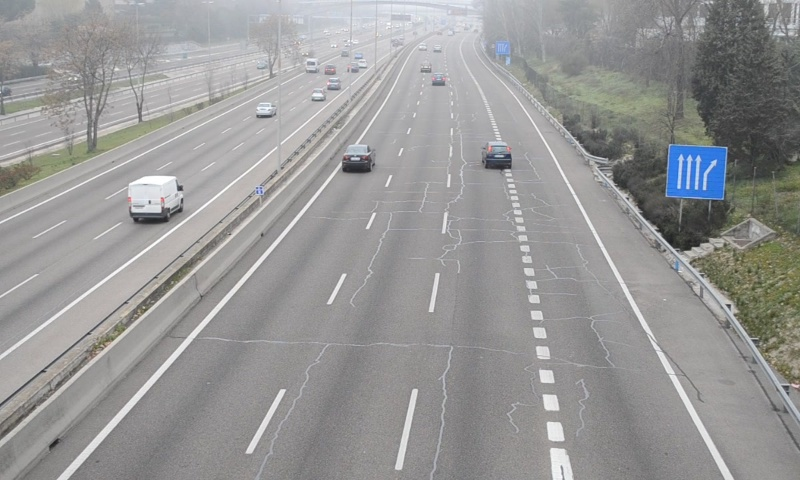car: (341, 144, 374, 172), (483, 142, 512, 167)
